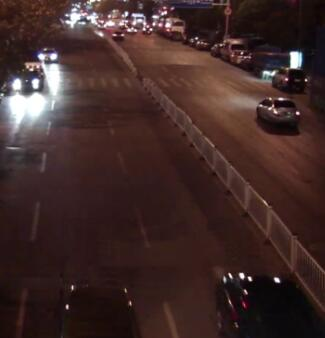bus: (151, 13, 184, 40), (129, 11, 146, 29)
car: (218, 270, 314, 336), (57, 277, 140, 333), (255, 96, 301, 127), (251, 43, 290, 78), (10, 63, 45, 94), (270, 67, 307, 92), (219, 36, 250, 62), (228, 49, 250, 66), (37, 47, 57, 63), (188, 35, 209, 50), (208, 40, 222, 57), (111, 29, 125, 40), (142, 23, 154, 33), (97, 18, 107, 29), (126, 25, 136, 34)
